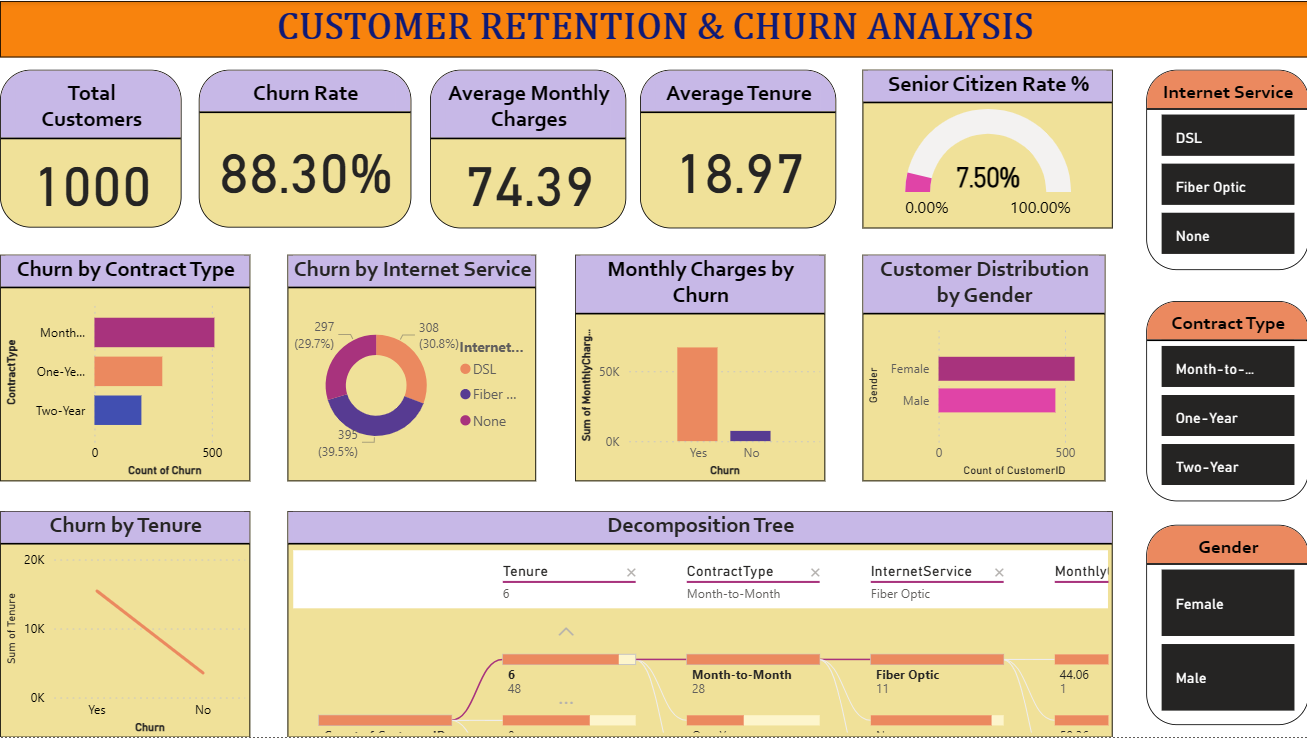

What the dashboard file says about the page in this screenshot:
{"tool":"powerbi","page":{"name":"Page 1","canvas":[1280,720],"ordinal":0},"visuals":[{"type":"textbox","box":[0,0,1280.3,54.9],"z":0},{"type":"card","title":"Total Customers","fields":{"Values":["customer_churn_data.TOT CUSTOMERS"]},"box":[0,67,177.8,154.7],"z":1000},{"type":"card","title":"Average Tenure","fields":{"Values":["customer_churn_data.AVG TENURE"]},"box":[626.1,67.3,192,155.3],"z":2000},{"type":"card","title":"Average Monthly Charges","fields":{"Values":["customer_churn_data.AVG MONTHLY CHARGES"]},"box":[420.7,67.3,192,155.3],"z":3000},{"type":"card","title":"Churn Rate","fields":{"Values":["customer_churn_data.CHURN RATE"]},"box":[193.9,67,207.8,154.7],"z":4000},{"type":"clusteredBarChart","title":"Churn by Contract Type","fields":{"Y":["CountNonNull(customer_churn_data.Churn)"],"Category":["customer_churn_data.ContractType"]},"box":[0,248.2,244.6,221.3],"z":5000},{"type":"clusteredColumnChart","title":"Monthly Charges by Churn","fields":{"Category":["customer_churn_data.Churn"],"Y":["Sum(customer_churn_data.MonthlyCharges)"]},"box":[562.5,248.2,244.6,221.3],"z":6000},{"type":"lineChart","title":"Churn by Tenure","fields":{"Category":["customer_churn_data.Churn"],"Y":["Avg(customer_churn_data.Tenure)"]},"box":[0,498.9,244.6,221.3],"z":7000},{"type":"donutChart","title":"Churn by Internet Service","fields":{"Series":["customer_churn_data.InternetService"],"Y":["CountNonNull(customer_churn_data.Churn)"]},"box":[281.3,248.2,243.3,221.3],"z":8000},{"type":"advancedSlicerVisual","title":"Internet Service","fields":{"Values":["customer_churn_data.InternetService"]},"box":[1121.3,67.3,159,195.7],"z":9000},{"type":"barChart","title":"Customer Distribution by Gender","fields":{"Category":["customer_churn_data.Gender"],"Y":["CountNonNull(customer_churn_data.CustomerID)"]},"box":[843.8,248.2,237.2,221.3],"z":10000},{"type":"gauge","title":"Senior Citizen Rate %","fields":{"Y":["customer_churn_data.SENIOR CITIZEN %"]},"box":[843.8,67.3,244.6,155.3],"z":11000},{"type":"decompositionTreeVisual","title":"Decomposition Tree","fields":{"ExplainBy":["customer_churn_data.Tenure","customer_churn_data.ContractType","customer_churn_data.InternetService","customer_churn_data.MonthlyCharges"],"Analyze":["CountNonNull(customer_churn_data.CustomerID)"]},"box":[281.3,498.9,807.1,221.3],"z":12000},{"type":"advancedSlicerVisual","title":"Gender","fields":{"Values":["customer_churn_data.Gender"]},"box":[1121.3,512.4,159,195.7],"z":13000},{"type":"advancedSlicerVisual","title":"Contract Type","fields":{"Values":["customer_churn_data.ContractType"]},"box":[1121.3,293.5,159,195.7],"z":14000}]}

Visuals, with their boxes in screenshot pixels (x1, y1, x2, y2), scaled from the page's 1280x720 canvas onto the 1307x738 screenshot:
textbox: 0:0:1306:56
"Total Customers" card: 0:69:182:227
"Average Tenure" card: 639:69:835:228
"Average Monthly Charges" card: 430:69:626:228
"Churn Rate" card: 198:69:410:227
"Churn by Contract Type" clusteredBarChart: 0:254:250:481
"Monthly Charges by Churn" clusteredColumnChart: 574:254:824:481
"Churn by Tenure" lineChart: 0:511:250:737
"Churn by Internet Service" donutChart: 287:254:536:481
"Internet Service" advancedSlicerVisual: 1145:69:1306:270
"Customer Distribution by Gender" barChart: 862:254:1104:481
"Senior Citizen Rate %" gauge: 862:69:1111:228
"Decomposition Tree" decompositionTreeVisual: 287:511:1111:737
"Gender" advancedSlicerVisual: 1145:525:1306:726
"Contract Type" advancedSlicerVisual: 1145:301:1306:501
